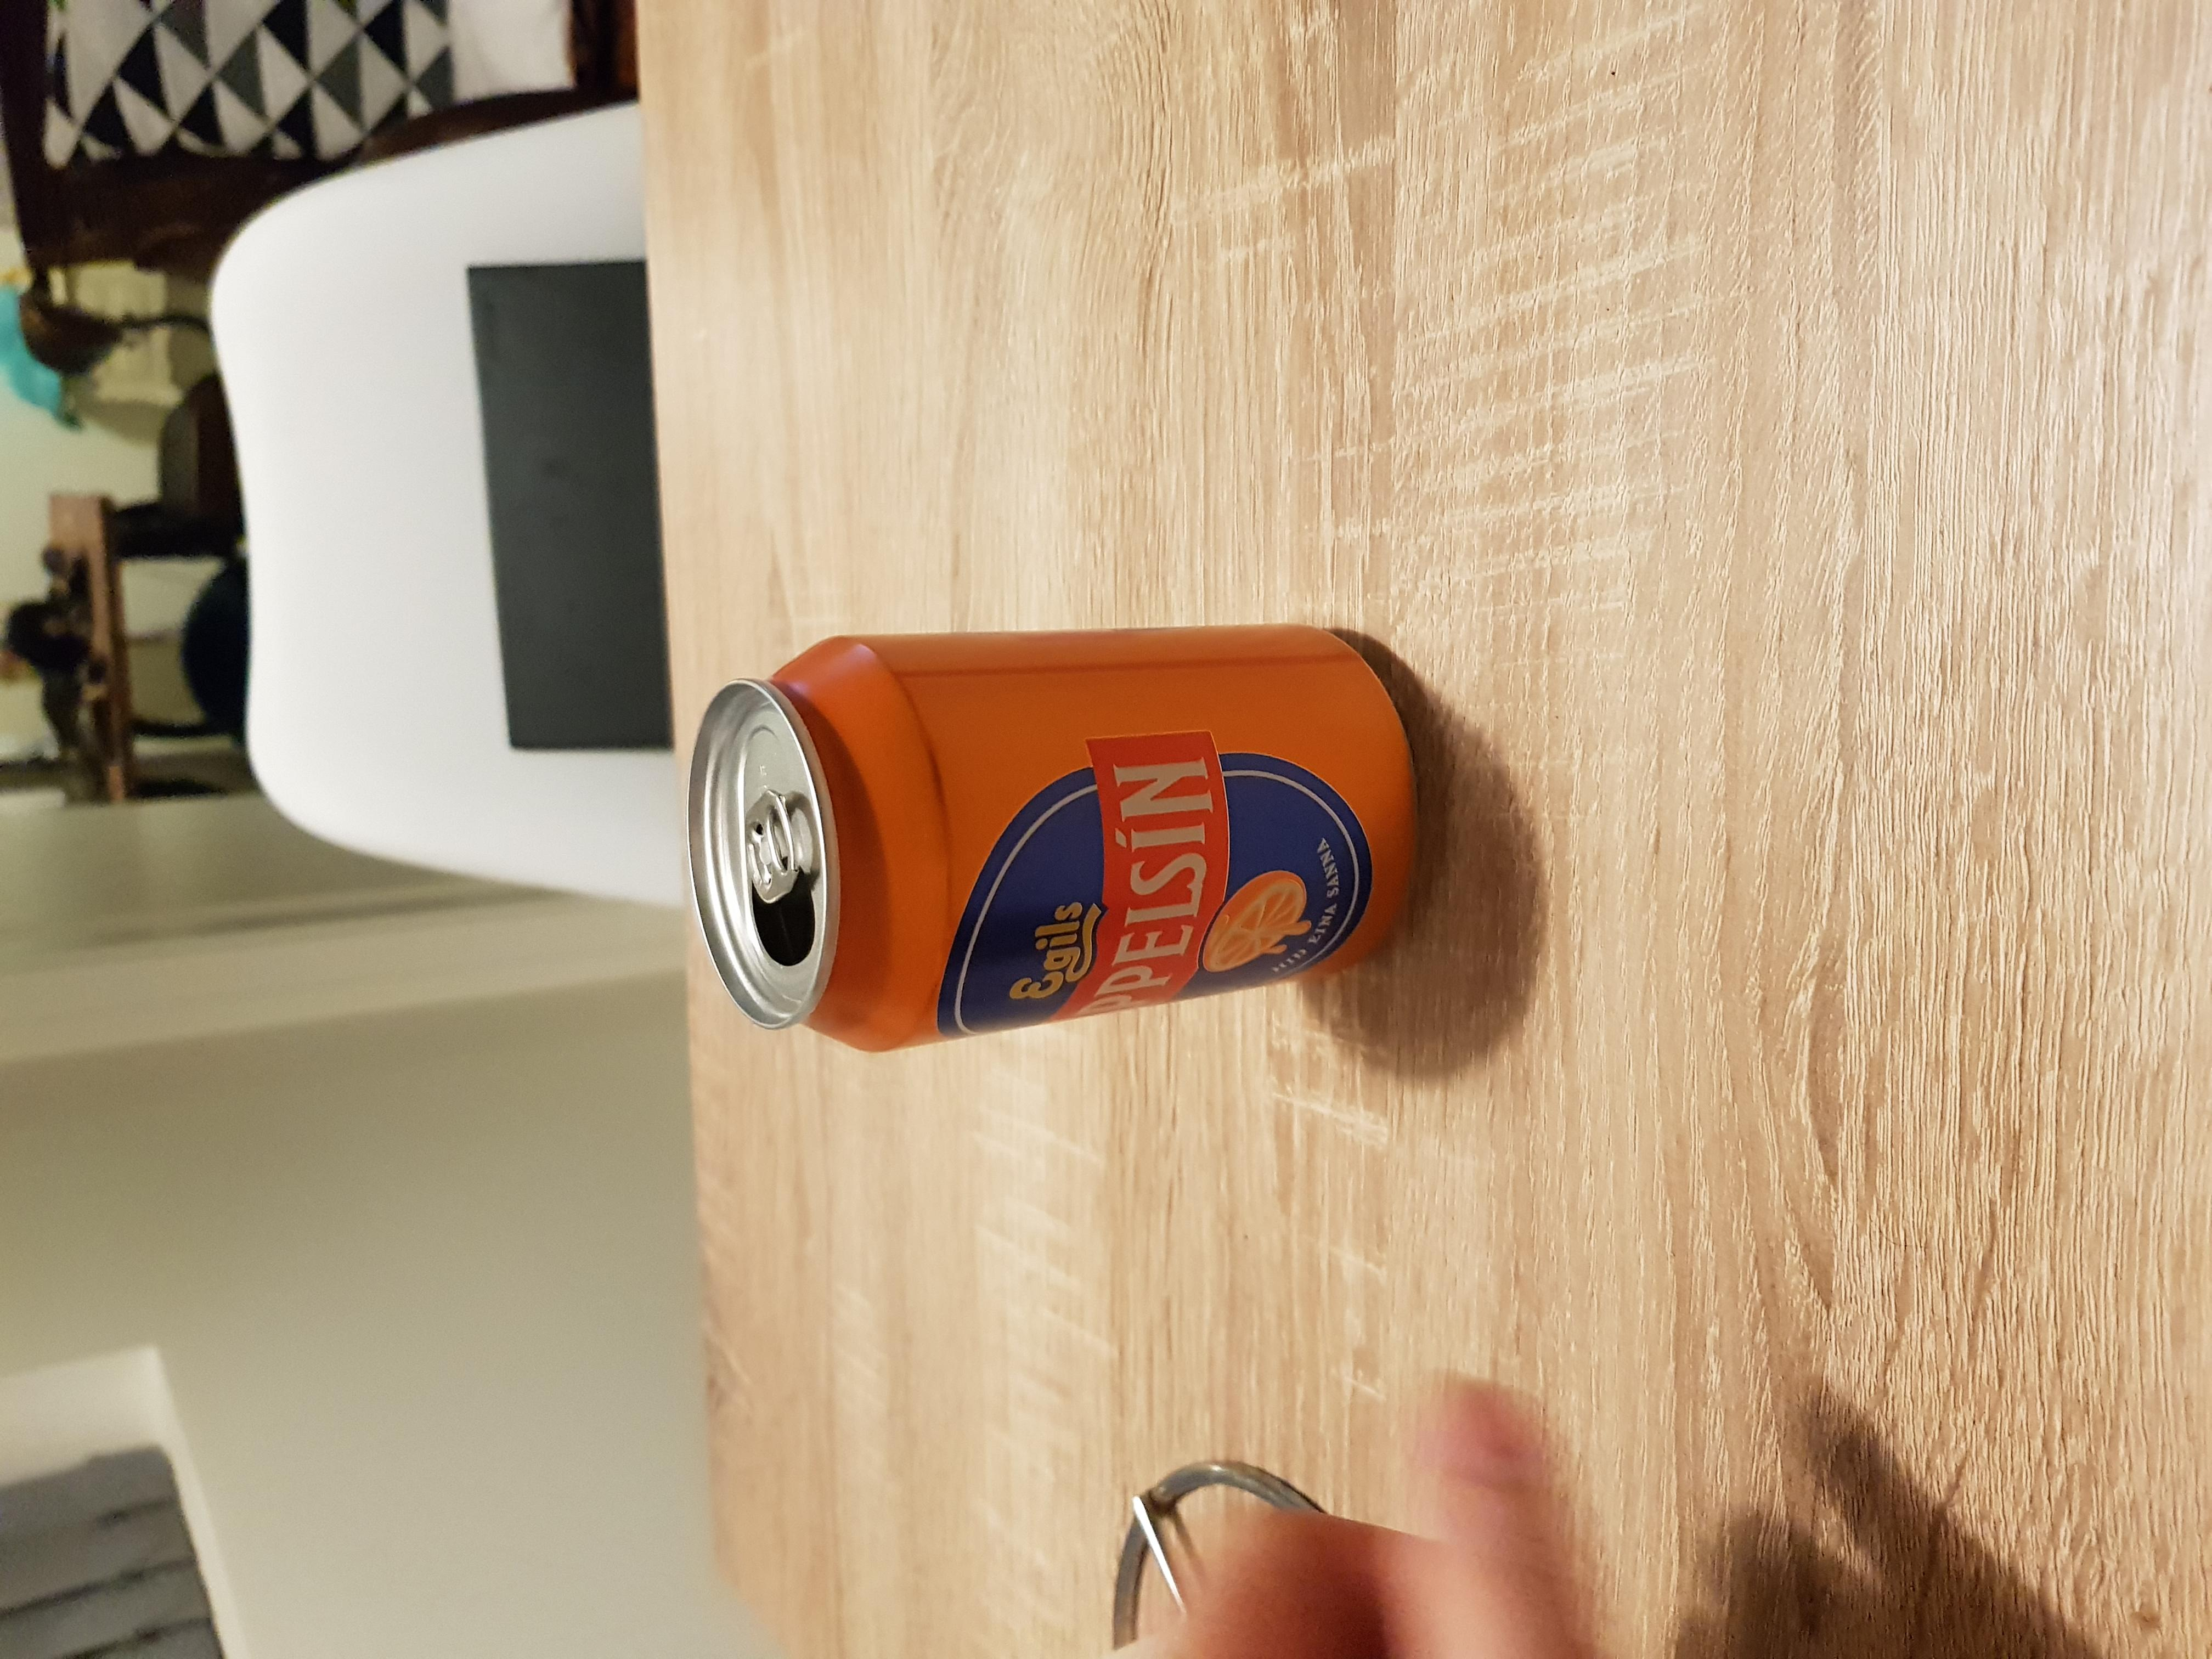can: (676, 617, 1435, 1060)
